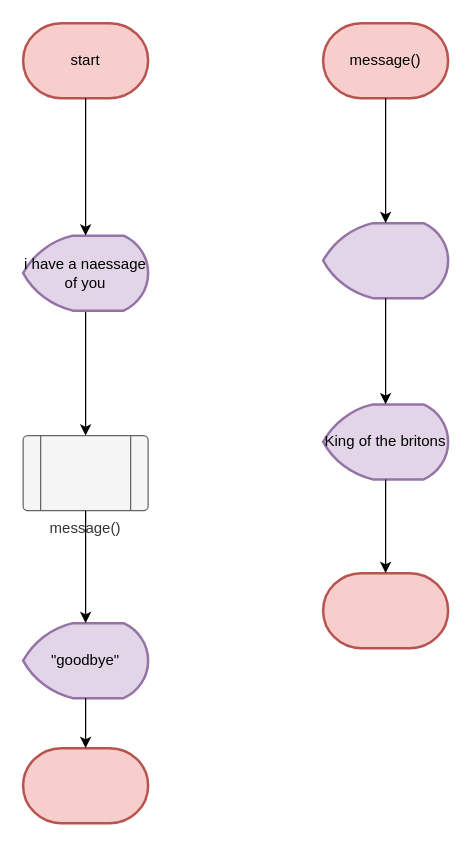
Image size: 470x845. Some labels were removed from this diagram. Here are the shapes that lost their labels. From the top down, the centre of each, then its label:
(x=385, y=260): i am arthur
(x=385, y=610): return
(x=85, y=785): stop
